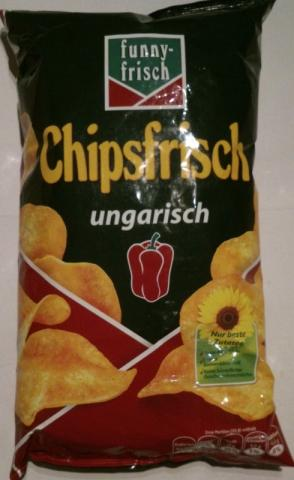chipsfrisch: (1, 1, 294, 480)
